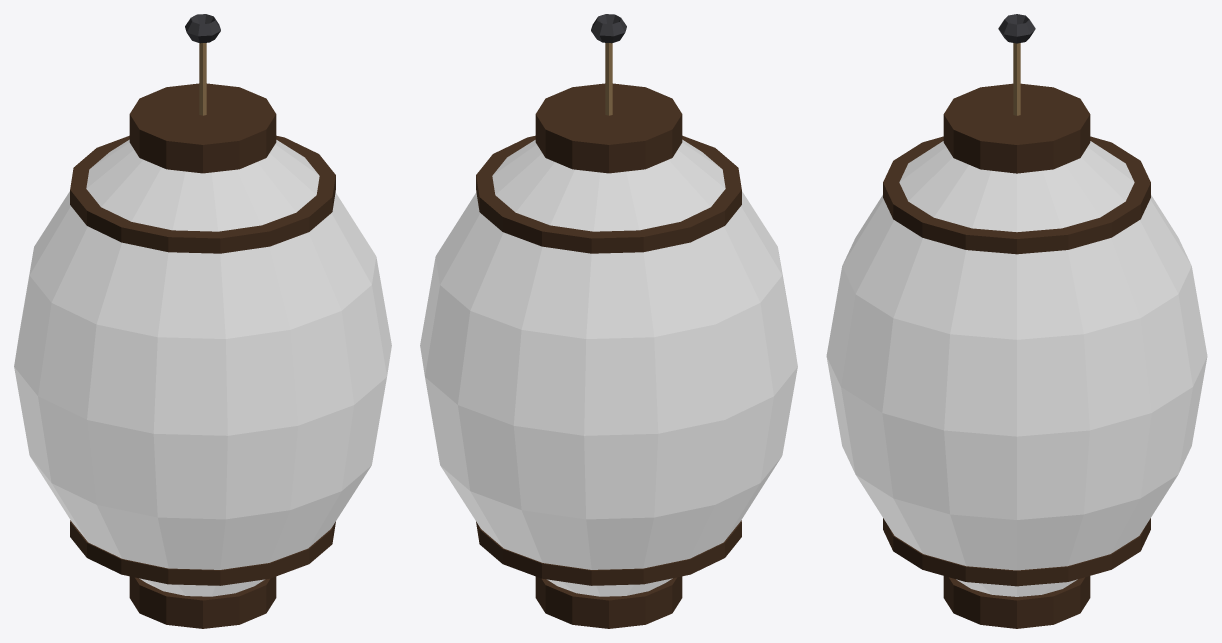
File: lampa_papirova.glb
3 renders of one model, left to right at view 1: azimuth 30°, elevation 25°; view 2: azimuth 150°, elevation 25°; view 3: azimuth 270°, elevation 25°, orthographic.
Visible parts, largest first — view 1: noc, lampa_papirova; view 2: noc, lampa_papirova; view 3: noc, lampa_papirova.
Part boxes in pixels (<box>): noc: <box>14,139,391,596</box>; lampa_papirova: <box>70,14,335,628</box>; noc: <box>420,139,797,596</box>; lampa_papirova: <box>476,14,741,628</box>; noc: <box>826,141,1207,596</box>; lampa_papirova: <box>883,14,1150,628</box>.
Size of the model in its own units: 0.364 by 0.61 by 0.364.
Materials: 2 (2 with a texture image).
